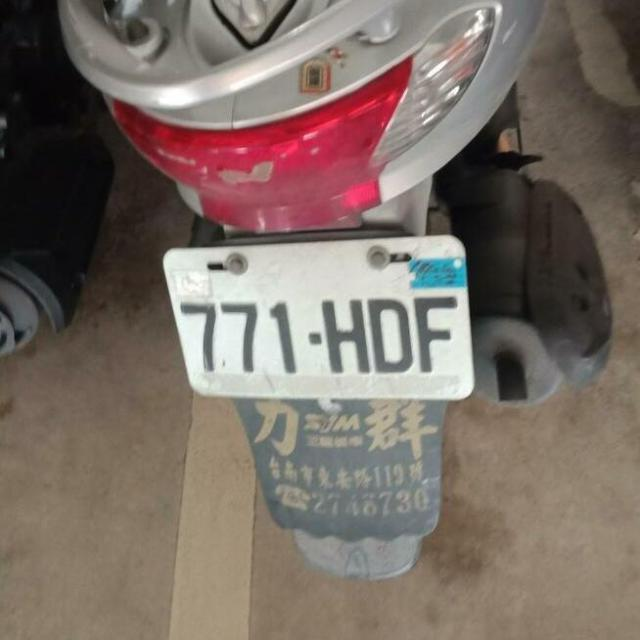W: (155, 215, 482, 421)
